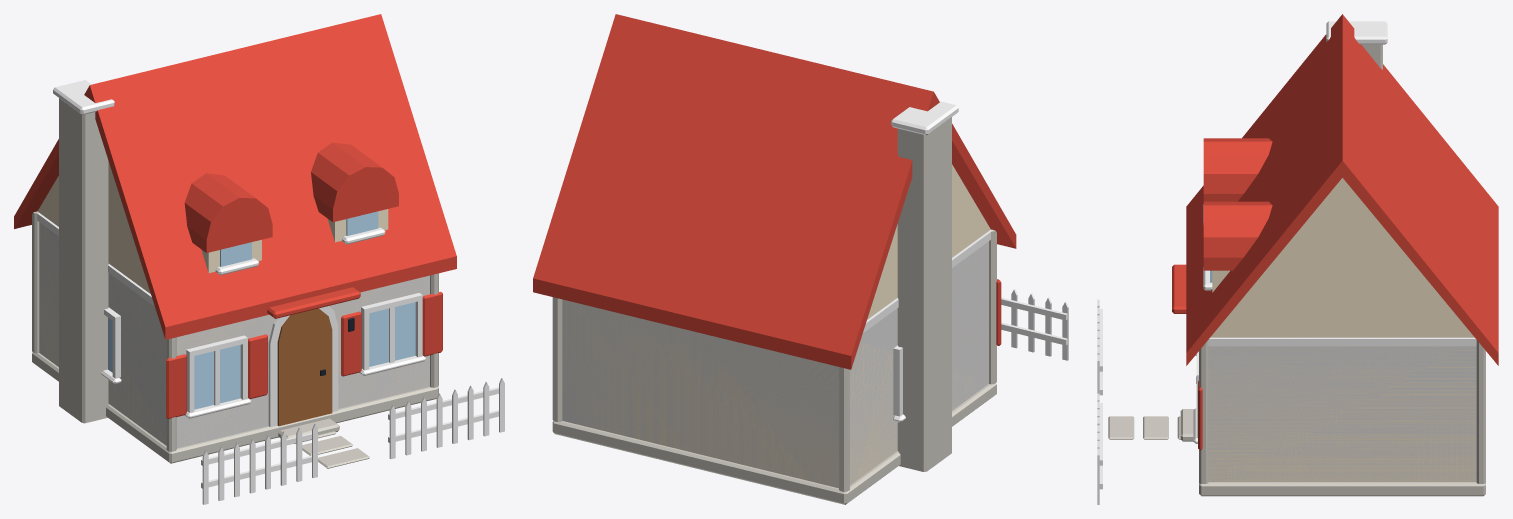
The model's file is house-cottage.glb.
3 renders of one model, left to right at view 1: azimuth 30°, elevation 25°; view 2: azimuth 150°, elevation 25°; view 3: azimuth 270°, elevation 25°, orthographic. The views are drawn at different scales.
Parts seen in each view (by area): view 1: house, COL_body; view 2: house, COL_body; view 3: house, COL_body.
Boxes of the visible parts, x1,y1,x2,y2 form: house: (14,14,504,504); COL_body: (39,213,429,448); house: (533,14,1068,504); COL_body: (562,229,990,488); house: (1097,14,1498,504); COL_body: (1208,337,1476,481).
Size of the model in its own units: 6.43 by 6.53 by 6.94.
